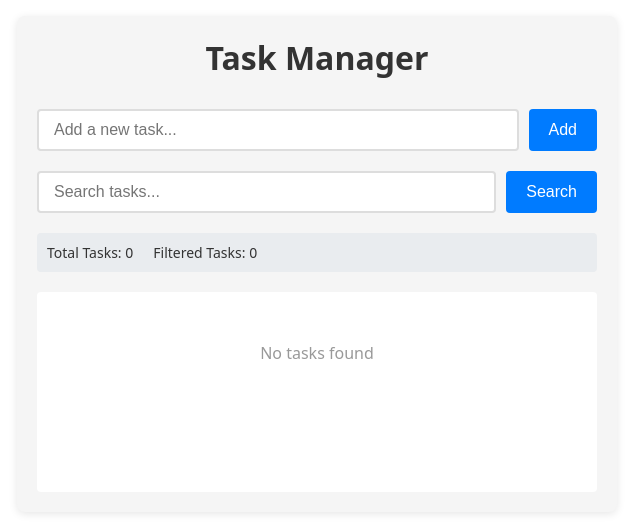
Test: TaskManager Component › Search Functionality › should filter tasks by search term
The image size is (635, 532).
In the field with test id "task-input": (278, 130) x1=37 y1=109 x2=518 y2=151, type "Buy groceries"
Click the button with test id "add-button": (563, 130) x1=528 y1=109 x2=597 y2=151
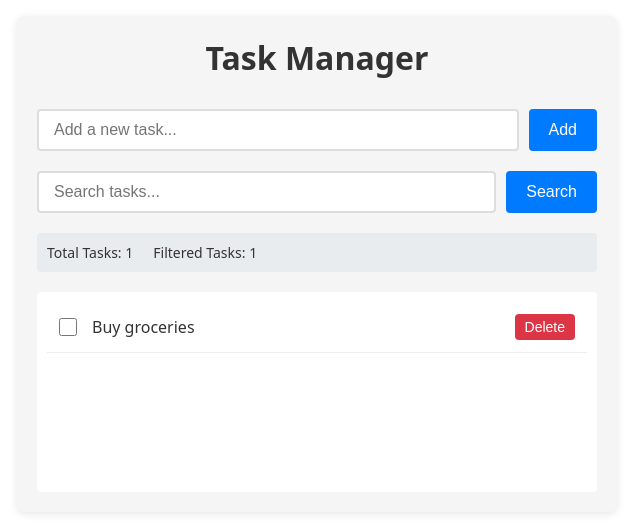
In the field with test id "task-input": (278, 130) x1=37 y1=109 x2=518 y2=151, type "Clean house"
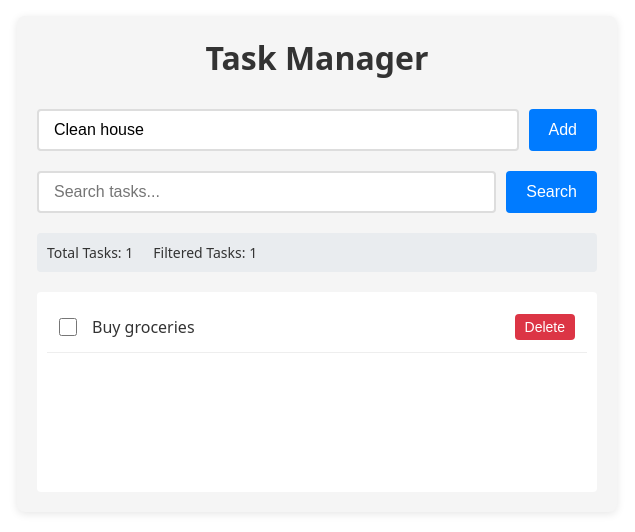
Click the button with test id "add-button": (563, 130) x1=528 y1=109 x2=597 y2=151
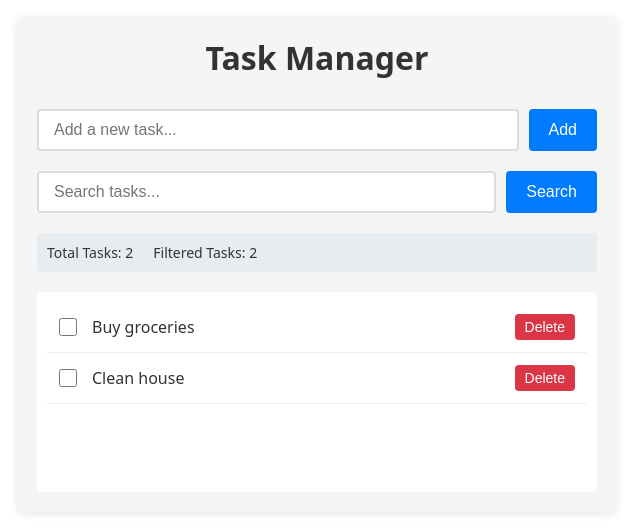
In the field with test id "task-input": (278, 130) x1=37 y1=109 x2=518 y2=151, type "Complete project"
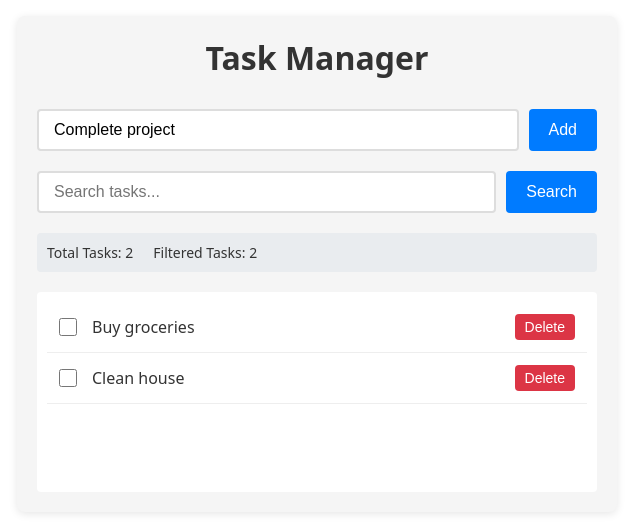
Click the button with test id "add-button": (563, 130) x1=528 y1=109 x2=597 y2=151
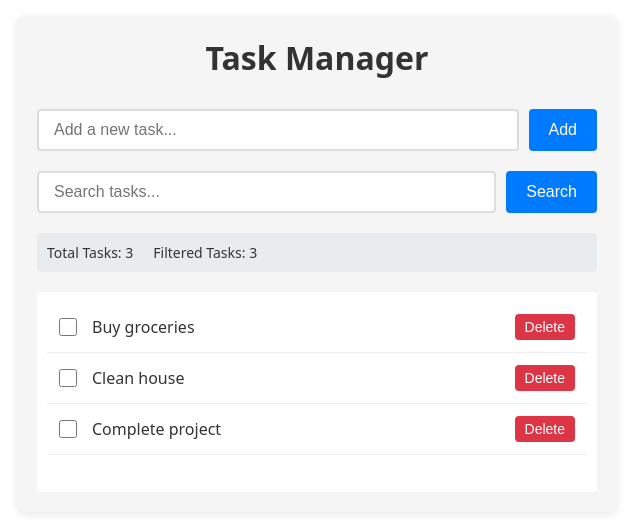
In the field with test id "search-input": (267, 192) x1=37 y1=171 x2=496 y2=213, type "buy"
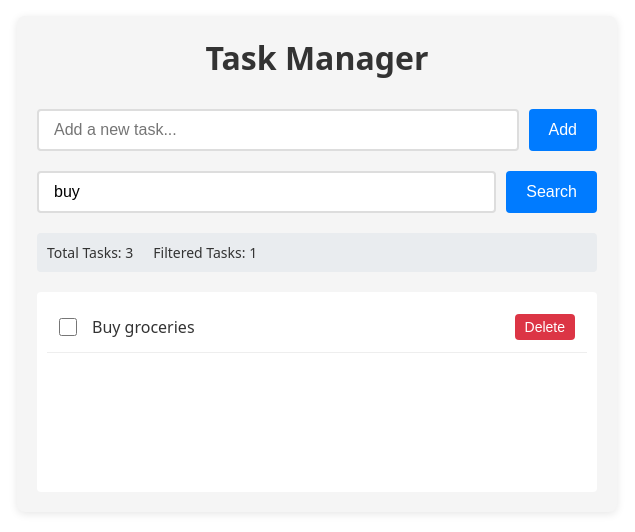
Expected: the text "Buy groceries" is shown, x1=92 y1=316 x2=194 y2=338
Expected: the text "Clean house" is gone
Expected: the text "Complete project" is gone
